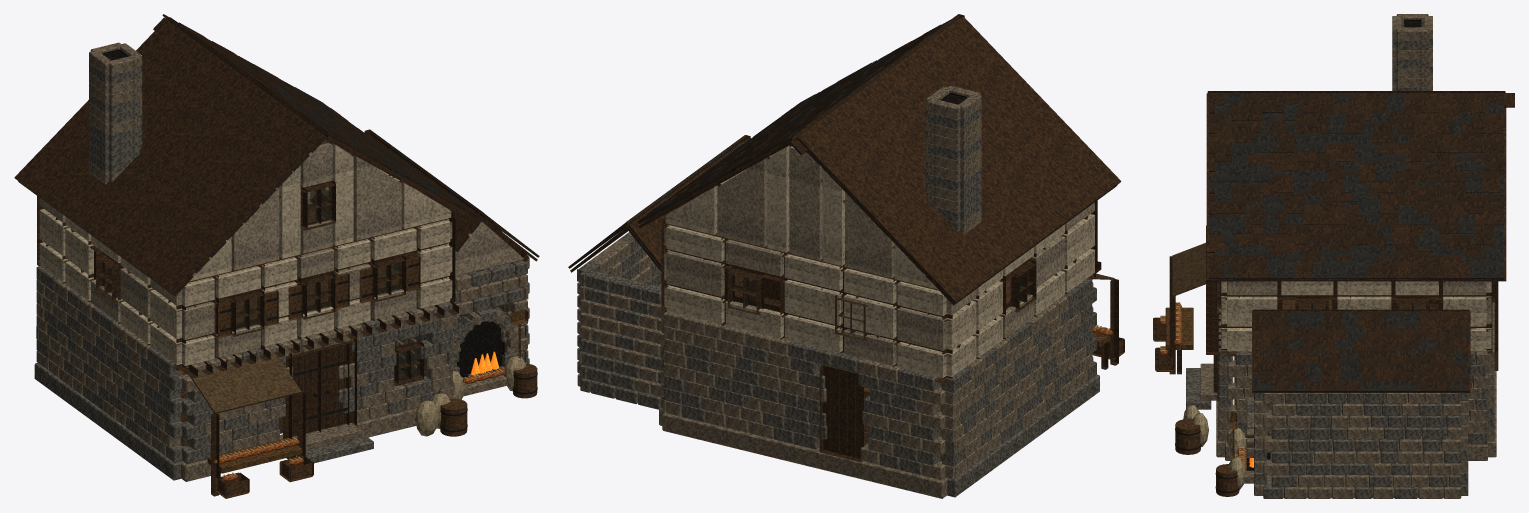
File: medieval_bakery_house_3d_runtime.glb
3 renders of one model, left to right at view 1: azimuth 30°, elevation 25°; view 2: azimuth 150°, elevation 25°; view 3: azimuth 270°, elevation 25°, orthographic. The views are drawn at different scales.
Parts seen in each view (by area): view 1: MAIN_ROOF_DECK_-1, BREAD_STALL_CLOTH, GABLE_FRONT_5, FOUNDATION_LEFT, GABLE_FRONT_1, ANNEX_FRONT_GABLE_INFILL, GABLE_FRONT_4, DOOR_BAKERY_FRONT_RIGHT_PLANK_BODY, GABLE_FRONT_2, DOOR_BAKERY_FRONT_LEFT_PLANK_BODY, OVEN_DARK_MOUTH, FOUNDATION_FRONT (+41 smaller); view 2: MAIN_ROOF_DECK_-1, FOUNDATION_REAR, DOOR_BAKERY_REAR_PLANK_BODY, GABLE_REAR_5, GABLE_REAR_3, FOUNDATION_LEFT, GABLE_REAR_1, GABLE_REAR_4, REAR_UPPER_INFILL_4_1, GABLE_REAR_2, REAR_UPPER_INFILL_2_1, REAR_UPPER_INFILL_0_1 (+26 smaller); view 3: MAIN_ROOF_DECK_1, BREAD_STALL_CLOTH, RIGHT_UPPER_INFILL_0_1, RIGHT_UPPER_INFILL_4_1, RIGHT_UPPER_INFILL_2_2, WATER_BARREL_BODY, RIGHT_UPPER_INFILL_1_2, BREAD_STALL_TABLE, RIGHT_UPPER_INFILL_2_1, RIGHT_UPPER_INFILL_0_2, RIGHT_UPPER_RAIL_2, FRONT_DOOR_STEP (+22 smaller).
Boxes of the visible parts, x1,y1,x2,y2 form: MAIN_ROOF_DECK_-1: (14,19,325,294); BREAD_STALL_CLOTH: (190,355,301,413); GABLE_FRONT_5: (353,155,401,240); FOUNDATION_LEFT: (34,363,181,480); GABLE_FRONT_1: (231,187,279,270); ANNEX_FRONT_GABLE_INFILL: (455,221,523,275); GABLE_FRONT_4: (332,143,353,245); DOOR_BAKERY_FRONT_RIGHT_PLANK_BODY: (317,343,349,430); GABLE_FRONT_2: (279,165,300,258); DOOR_BAKERY_FRONT_LEFT_PLANK_BODY: (292,350,320,436); OVEN_DARK_MOUTH: (457,321,504,375); FOUNDATION_FRONT: (180,408,417,481); MAIN_ROOF_DECK_-1: (797,17,1121,303); FOUNDATION_REAR: (662,412,947,498); DOOR_BAKERY_REAR_PLANK_BODY: (819,365,863,462); GABLE_REAR_5: (717,157,767,246); GABLE_REAR_3: (789,146,822,260); FOUNDATION_LEFT: (945,374,1099,497); GABLE_REAR_1: (845,192,894,278); GABLE_REAR_4: (767,145,789,252); REAR_UPPER_INFILL_4_1: (666,251,724,296); GABLE_REAR_2: (822,169,844,265); REAR_UPPER_INFILL_2_1: (784,279,842,325); REAR_UPPER_INFILL_0_1: (897,307,946,350); MAIN_ROOF_DECK_1: (1206,95,1506,281); BREAD_STALL_CLOTH: (1172,243,1205,296); RIGHT_UPPER_INFILL_0_1: (1227,296,1277,326); RIGHT_UPPER_INFILL_4_1: (1443,296,1486,326); RIGHT_UPPER_INFILL_2_2: (1337,281,1391,295); WATER_BARREL_BODY: (1175,419,1200,454); RIGHT_UPPER_INFILL_1_2: (1281,281,1333,295); BREAD_STALL_TABLE: (1165,307,1193,349); RIGHT_UPPER_INFILL_2_1: (1337,296,1391,309); RIGHT_UPPER_INFILL_0_2: (1227,281,1277,295); RIGHT_UPPER_RAIL_2: (1225,291,1487,299); FRONT_DOOR_STEP: (1186,368,1211,409).
Size of the model in its own units: 11.06 by 9.32 by 9.34.
21 materials, 21 textured.
